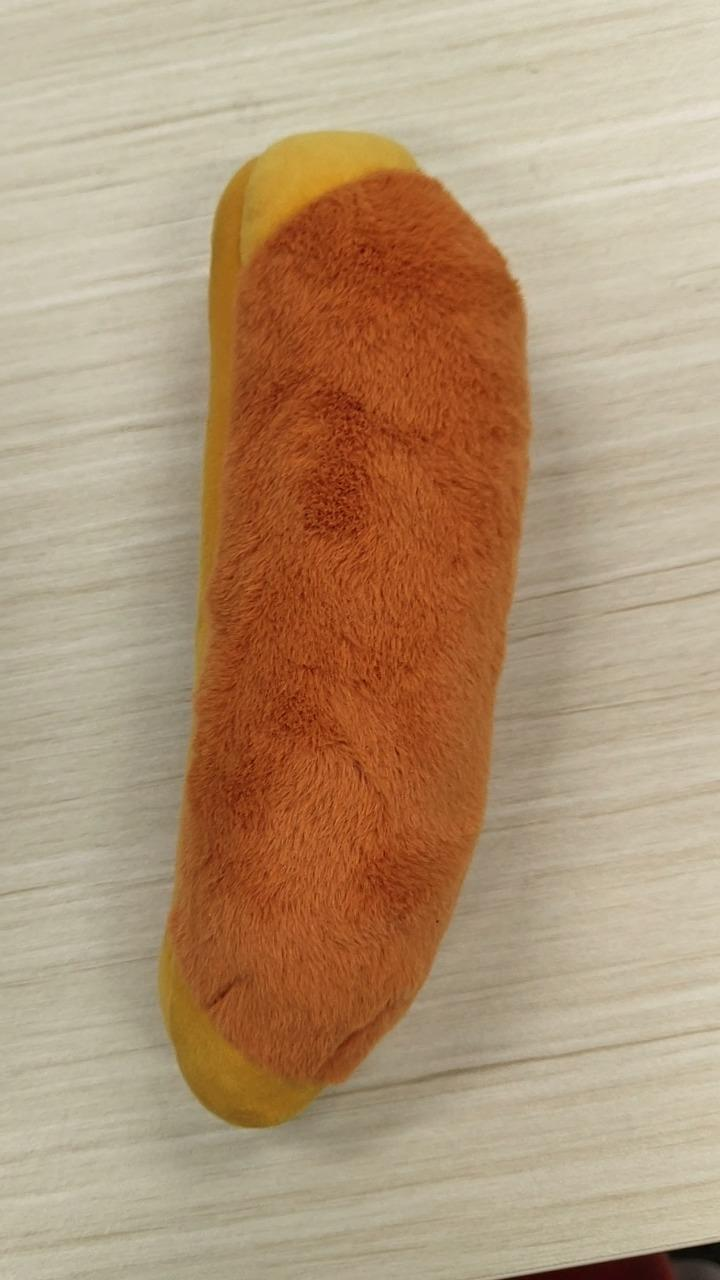hotdog: (156, 127, 532, 1129)
